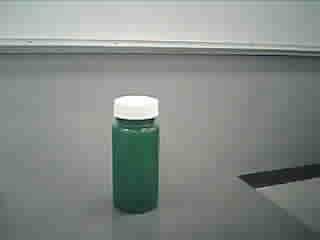Bottle C: (99, 85, 182, 224)
